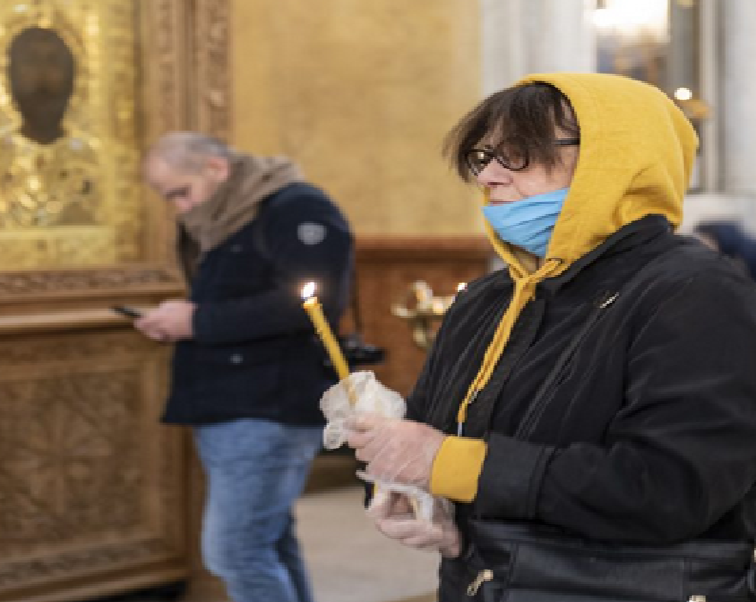mask_weared_incorrect: (460, 72, 690, 257)
